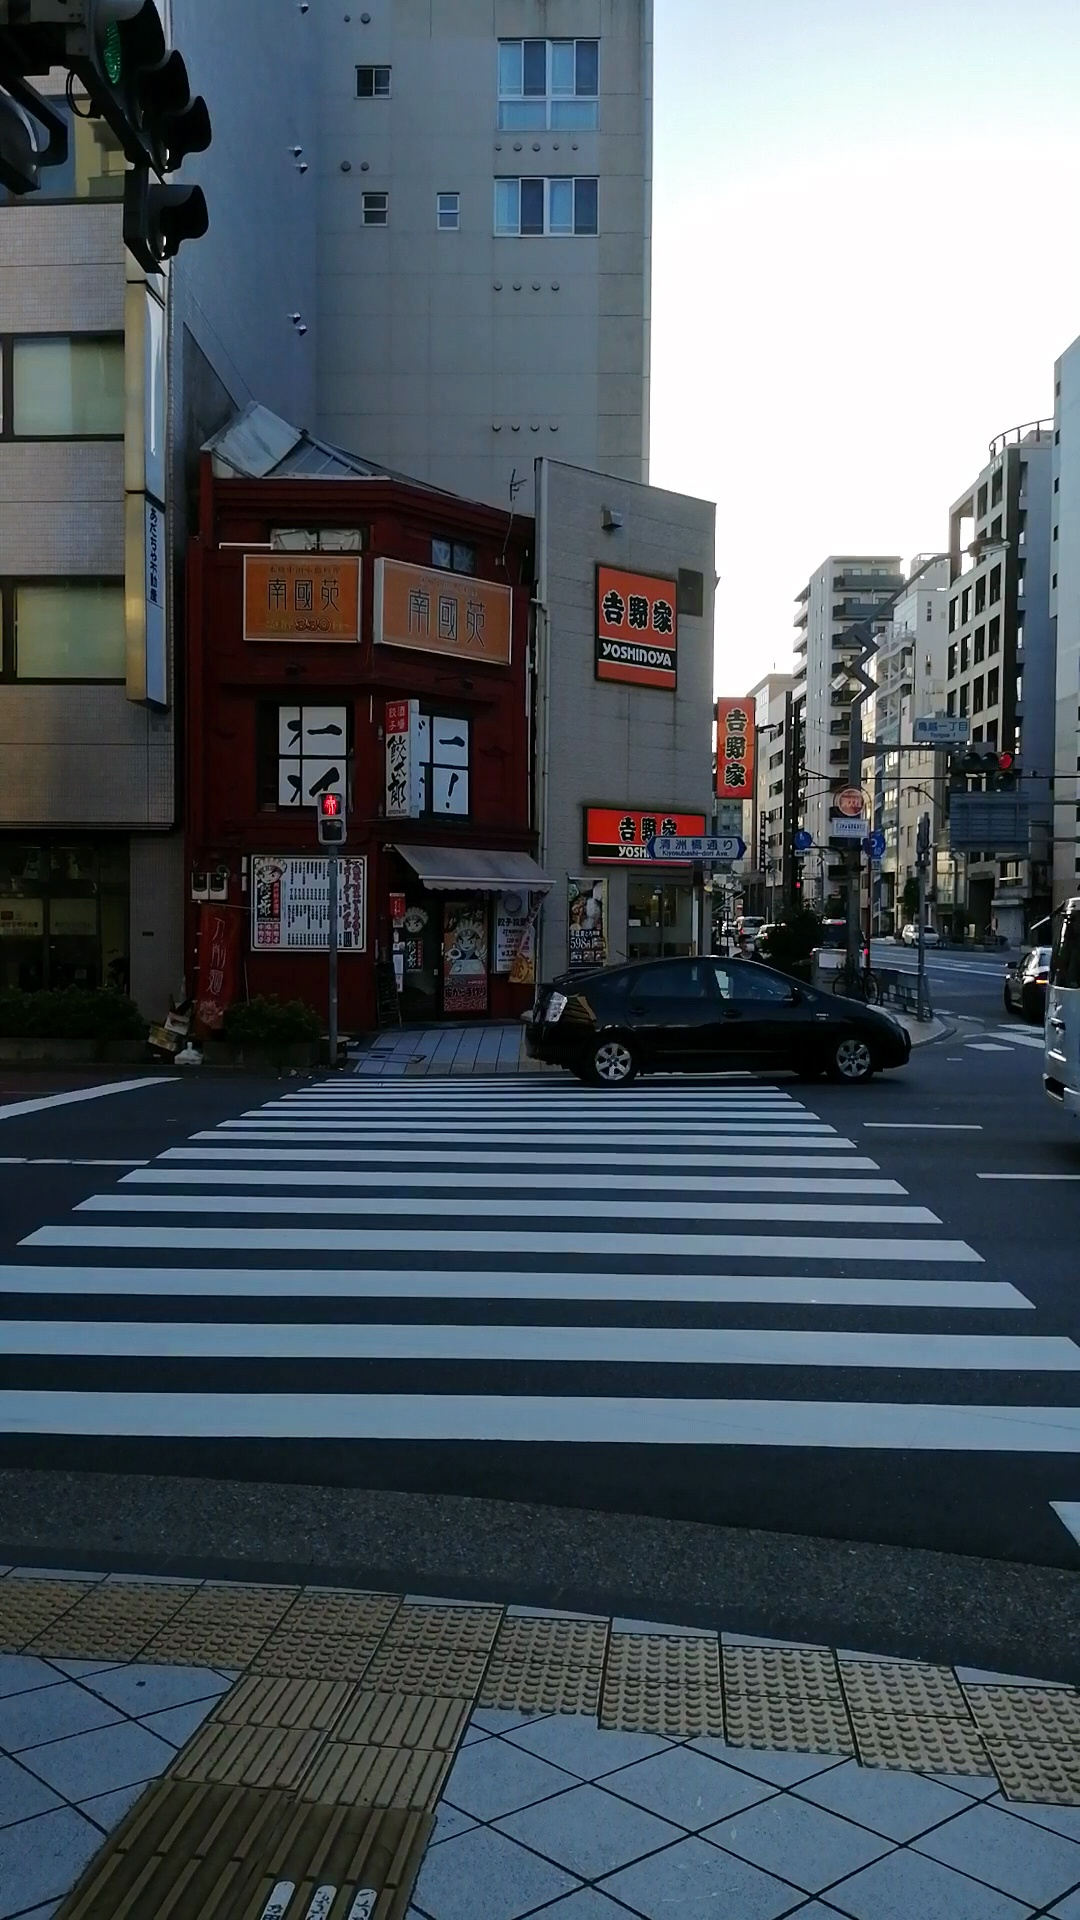red: (316, 790, 345, 847)
